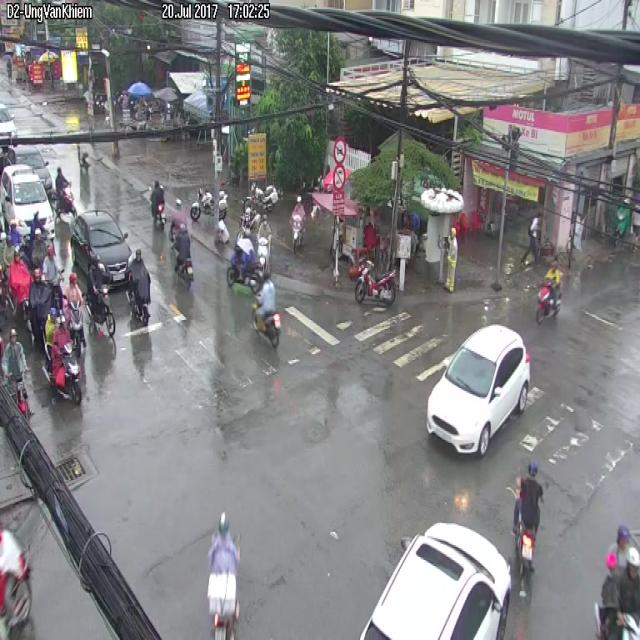car: (208, 513, 239, 639), (513, 462, 543, 573), (50, 311, 81, 403), (351, 258, 397, 305), (88, 258, 115, 336), (63, 273, 86, 356), (253, 280, 281, 348), (128, 249, 150, 324), (538, 261, 562, 321), (291, 193, 312, 250), (174, 225, 193, 283), (56, 169, 72, 212), (151, 181, 163, 225)
traffic-light: (360, 523, 512, 639), (426, 326, 529, 456), (72, 210, 131, 287), (0, 164, 52, 234)
